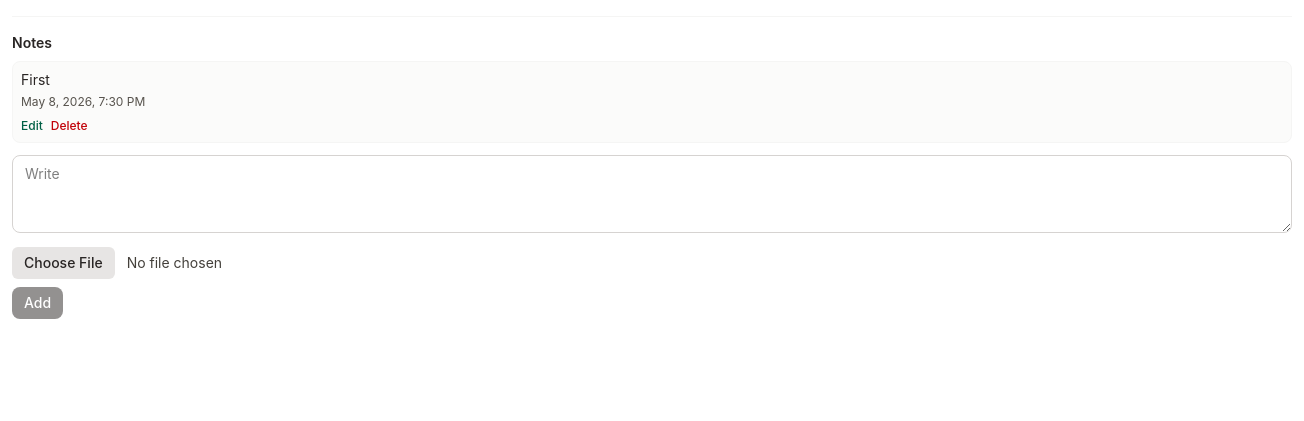
Test case: NotesSection › renders notes and create form
The width and height of the screenshot is (1304, 421).
Expected: the list item with test id "note-item-n1" shows "First", top-left (21, 71), bottom-right (50, 88)
Expected: the form with test id "note-add-form" is shown, top-left (12, 155), bottom-right (1292, 319)
Click the button with test id "note-edit-btn-n1" at point(32, 126), box top-left (21, 118), bottom-right (43, 134)
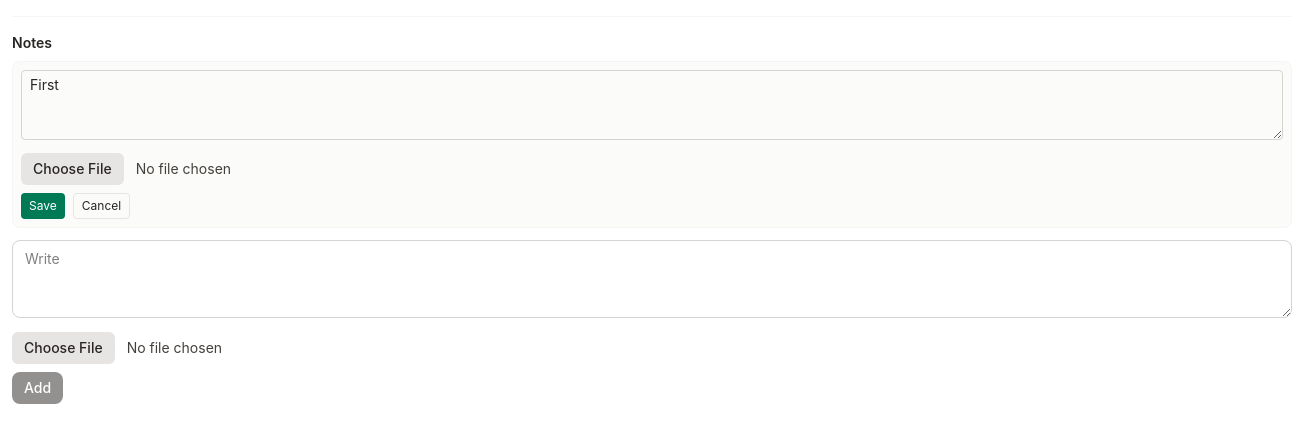
Expected: the text box with test id "note-edit-n1" is shown, top-left (21, 70), bottom-right (1283, 140)
